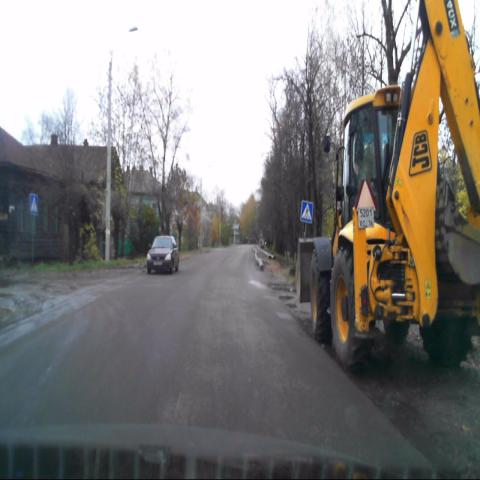5_19_1: (300, 198, 314, 224)
